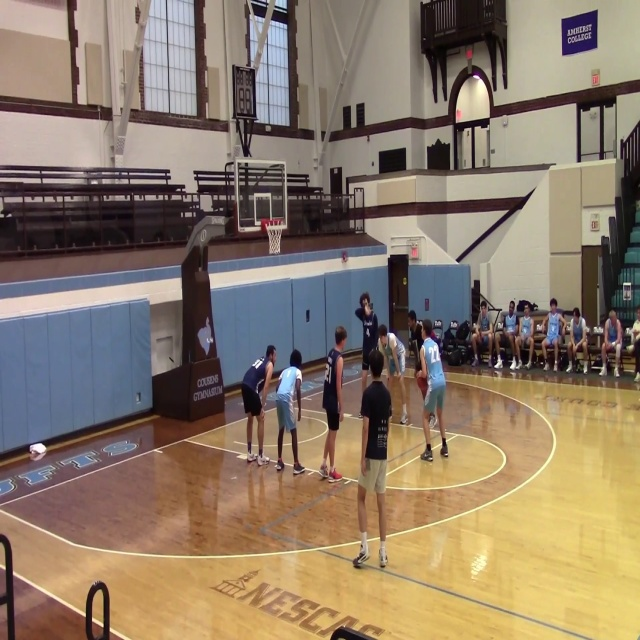Basketball: (415, 370, 427, 389), (29, 443, 46, 454)
